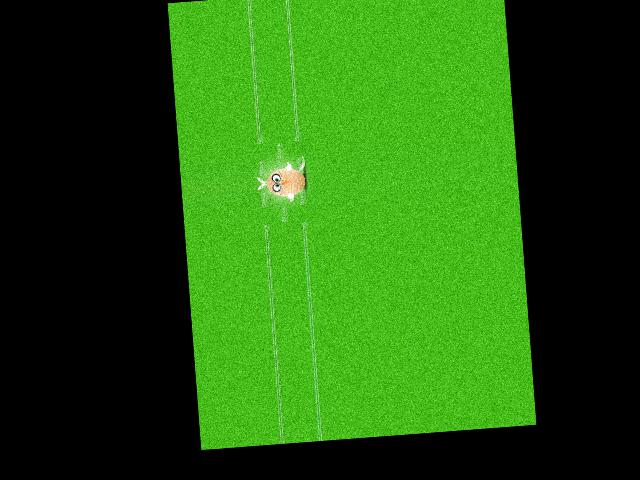egg: (265, 166, 307, 197)
